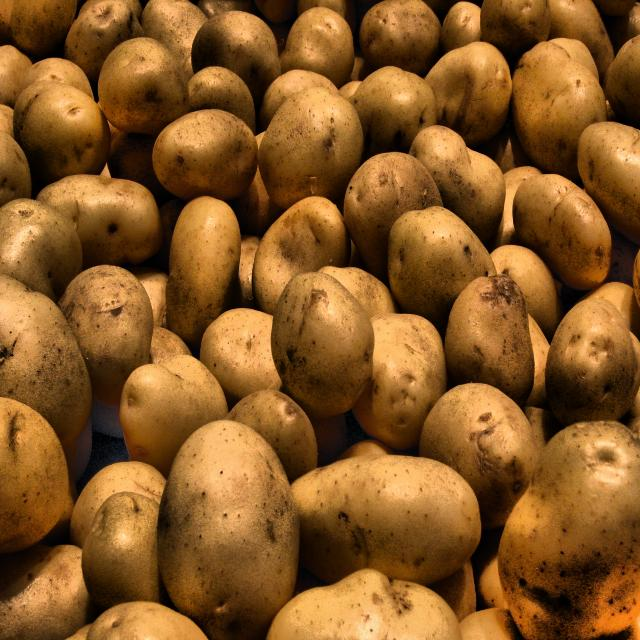potato: (37, 61, 608, 620)
